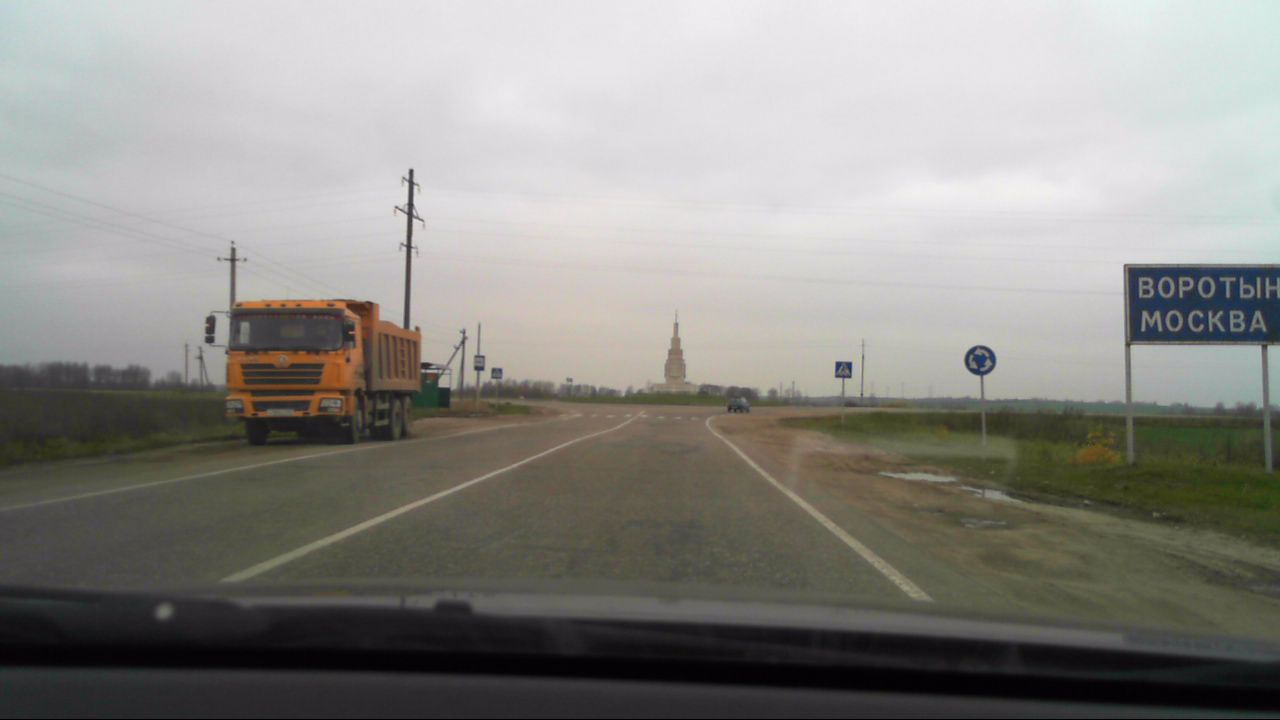Round-About: (964, 344, 998, 377)
